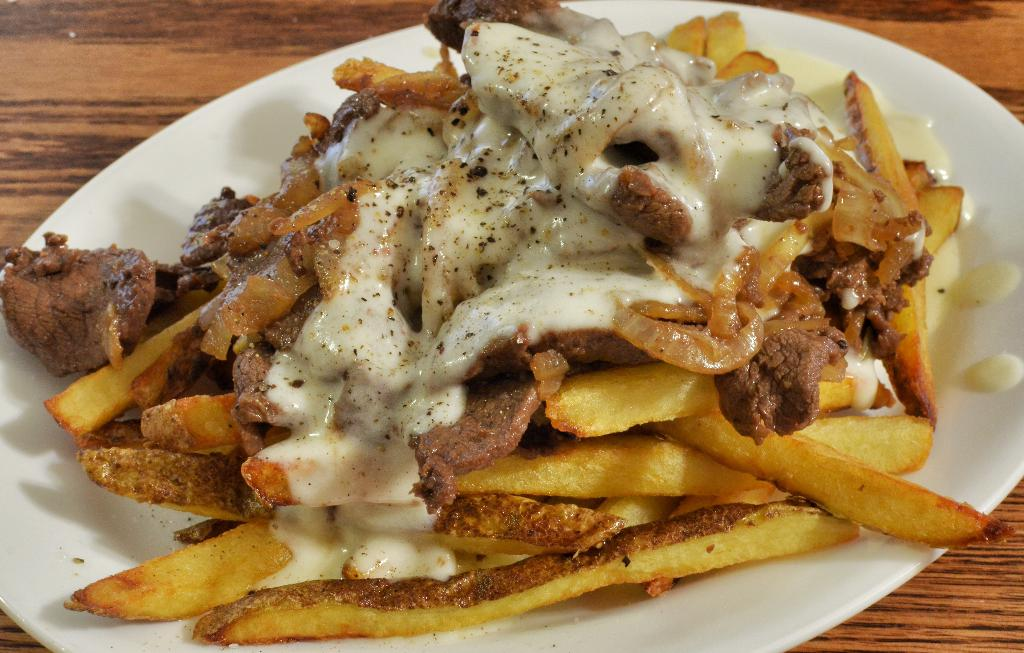French fries: (79, 60, 904, 611)
